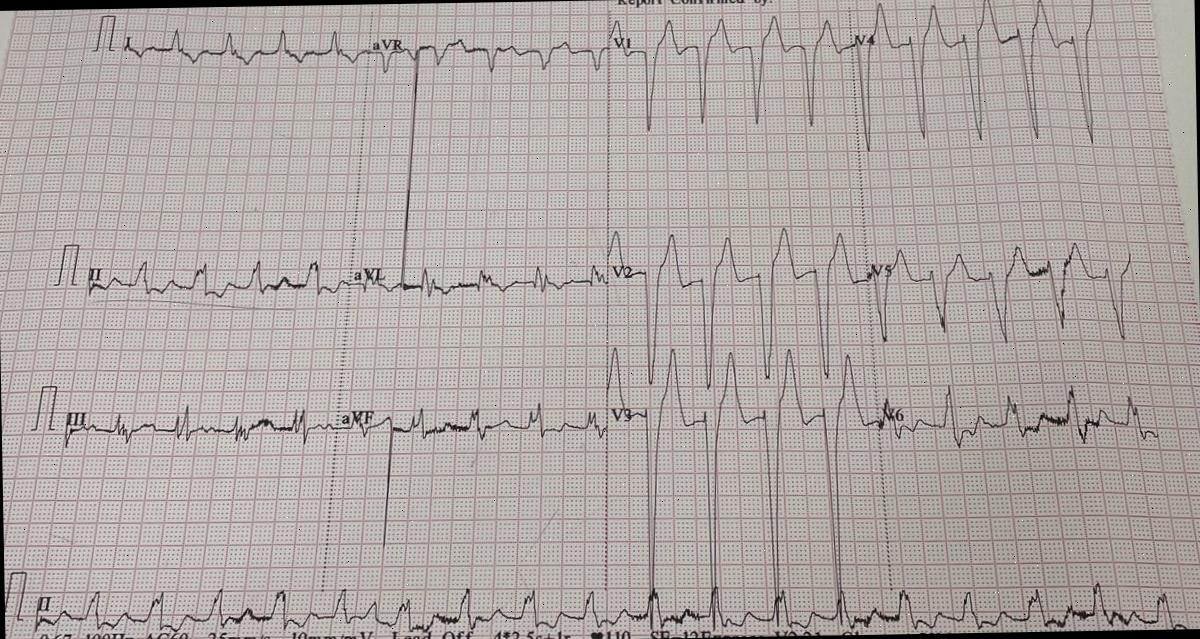Lead_I: (120, 13, 372, 107)
Lead_II: (76, 240, 357, 332)
Lead_III: (63, 386, 340, 478)
Lead_II_ext: (26, 538, 1200, 639)
Lead_V1: (606, 0, 859, 150)
Lead_V2: (602, 213, 873, 393)
Lead_V3: (606, 332, 887, 634)
Lead_V4: (856, 0, 1118, 176)
Lead_V5: (868, 228, 1144, 364)
Lead_V6: (880, 377, 1168, 470)
Lead_aVF: (338, 388, 612, 557)
Lead_aVL: (342, 45, 610, 307)
Lead_aVR: (368, 14, 606, 320)
